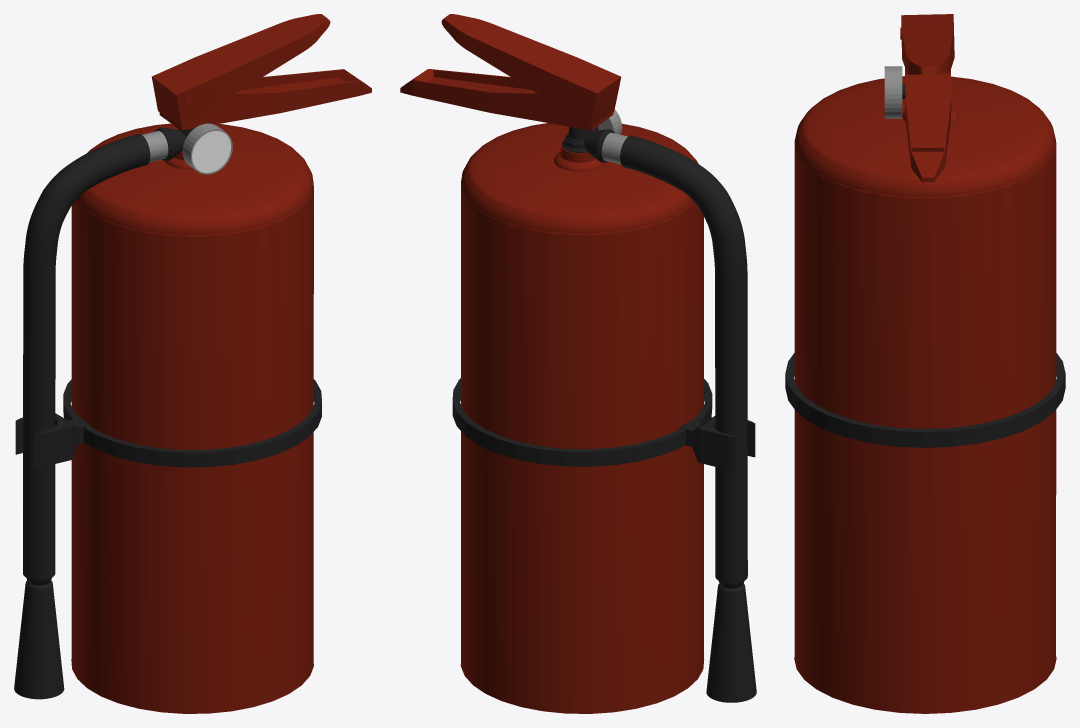
The model's file is MATAFUEGOS DEFINITIVO.fbx.
3 renders of one model, left to right at view 1: azimuth 30°, elevation 25°; view 2: azimuth 150°, elevation 25°; view 3: azimuth 270°, elevation 25°, orthographic. The views are drawn at different scales.
Visible parts, largest first — view 1: Matafuegos.001; view 2: Matafuegos.001; view 3: Matafuegos.001.
Part boxes in pixels (x1,y1,x2,y2): Matafuegos.001: (14, 14, 371, 713); Matafuegos.001: (400, 14, 756, 713); Matafuegos.001: (785, 14, 1065, 713).
Bounding box in the file's own units: 27.08 × 45.26 × 17.36.
2 materials, 2 textured.
